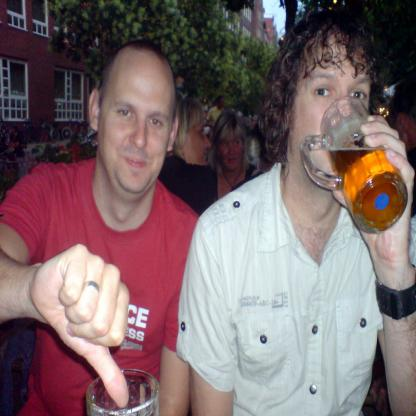drinking: (301, 96, 408, 234)
